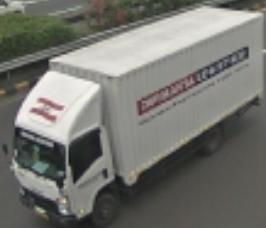truck: (1, 67, 126, 228)
